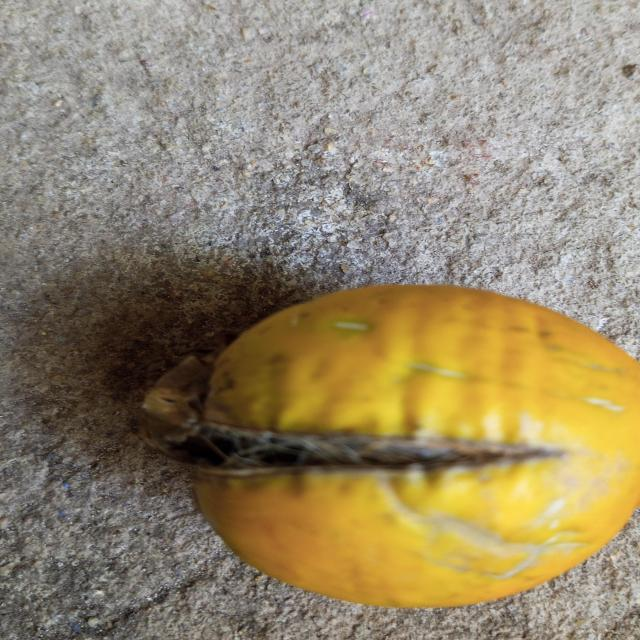damaged: (141, 285, 640, 607)
